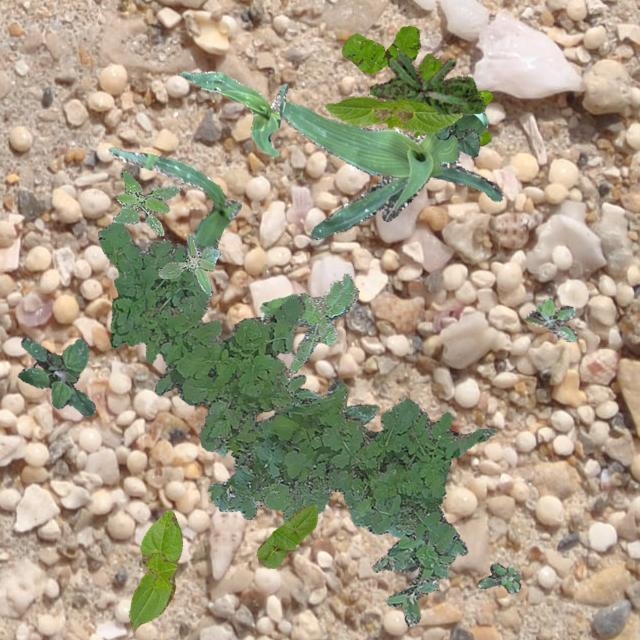crop: (280, 100, 502, 238), (108, 146, 240, 248), (180, 70, 288, 156), (128, 508, 182, 630), (324, 95, 462, 134), (256, 504, 316, 566), (432, 120, 478, 156)
weed: (208, 386, 496, 552), (96, 222, 304, 450), (258, 272, 358, 373), (372, 536, 466, 626), (368, 50, 484, 114), (412, 52, 492, 144), (16, 336, 94, 416), (272, 371, 378, 424), (342, 24, 434, 80), (112, 170, 180, 234), (158, 232, 220, 294), (524, 296, 576, 341), (476, 562, 520, 592)
